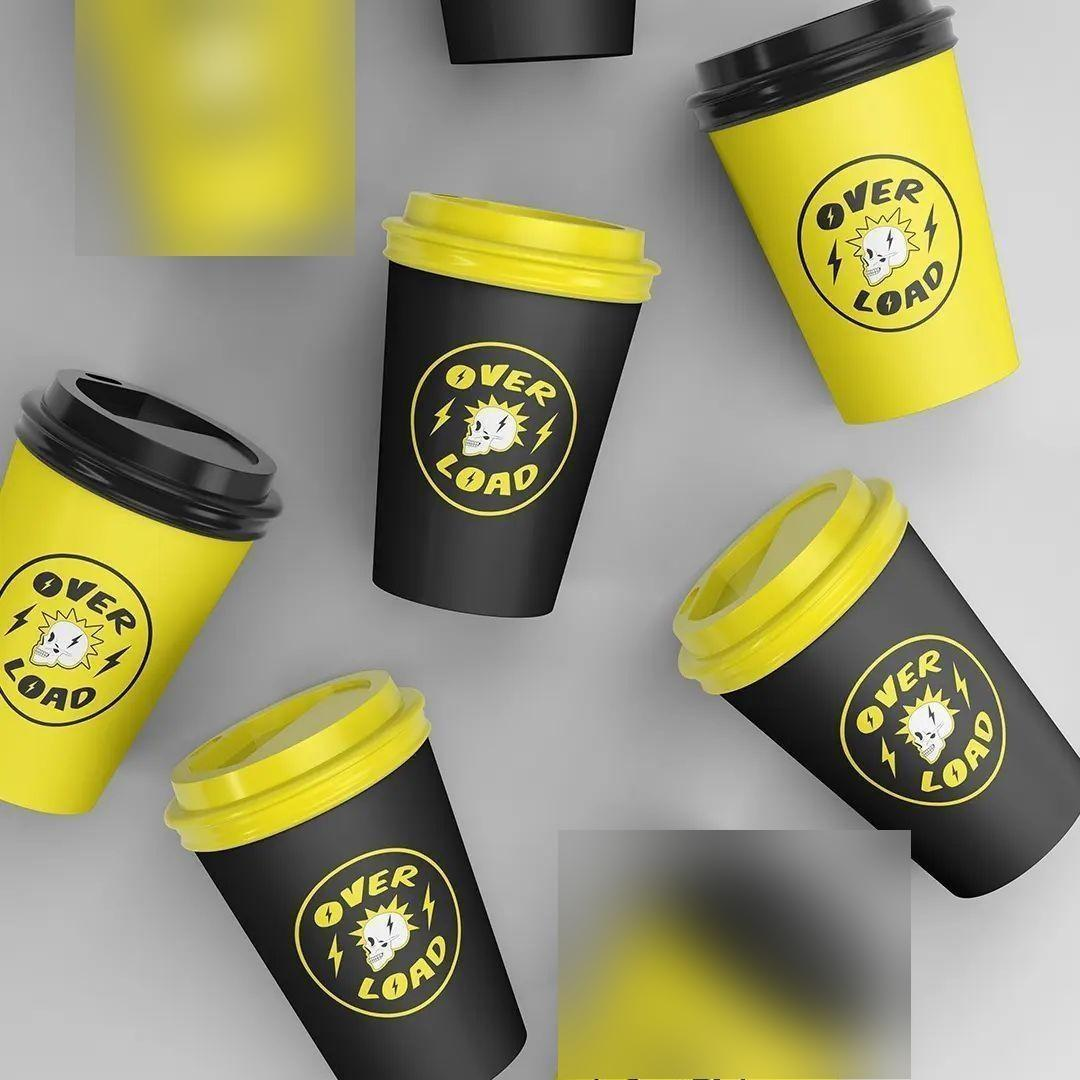cup-disposable: (661, 458, 1080, 905), (153, 660, 539, 1080), (686, 0, 1047, 434), (4, 356, 296, 823), (364, 183, 666, 631)
